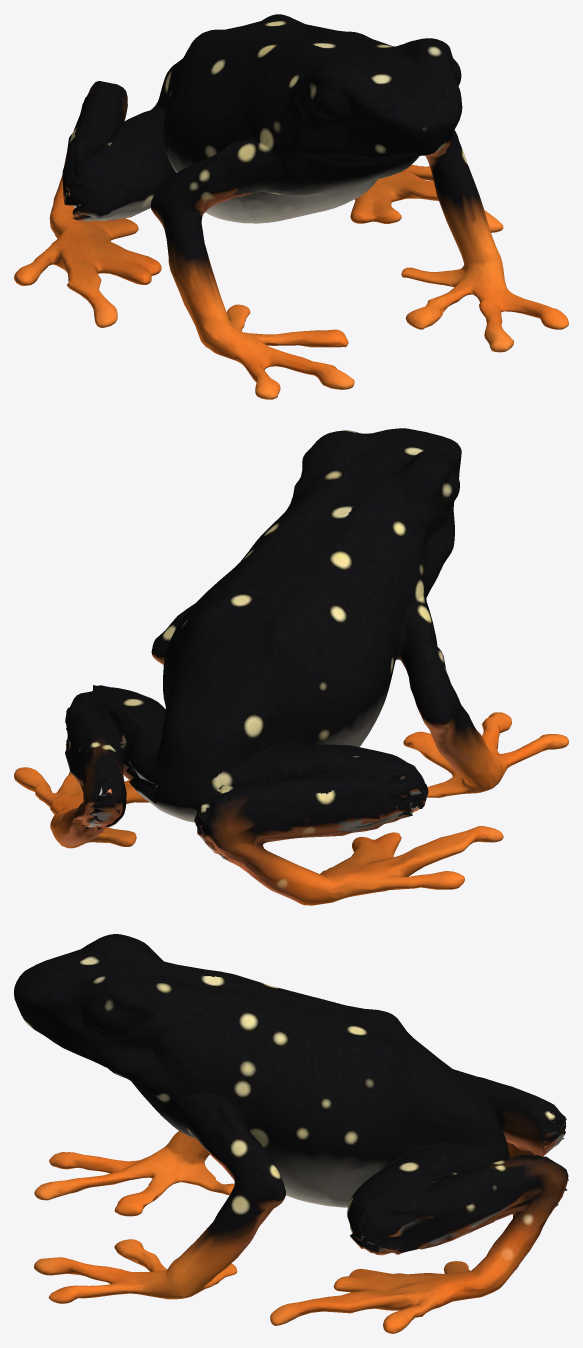
The model's file is reedfrog.glb.
The picture shows the model from 3 angles, top to bottom: view 1: azimuth 30°, elevation 25°; view 2: azimuth 150°, elevation 25°; view 3: azimuth 270°, elevation 25°; orthographic projection. The views are drawn at different scales.
Visible parts, largest first — view 1: reedfrog; view 2: reedfrog; view 3: reedfrog.
Boxes of the visible parts, box(x1,y1,x2,y2) form: reedfrog: box(14, 14, 568, 399); reedfrog: box(14, 428, 568, 905); reedfrog: box(14, 934, 568, 1333).
Size of the model in its own units: 0.0287 by 0.0178 by 0.032.
Materials: 1 (1 with a texture image).
